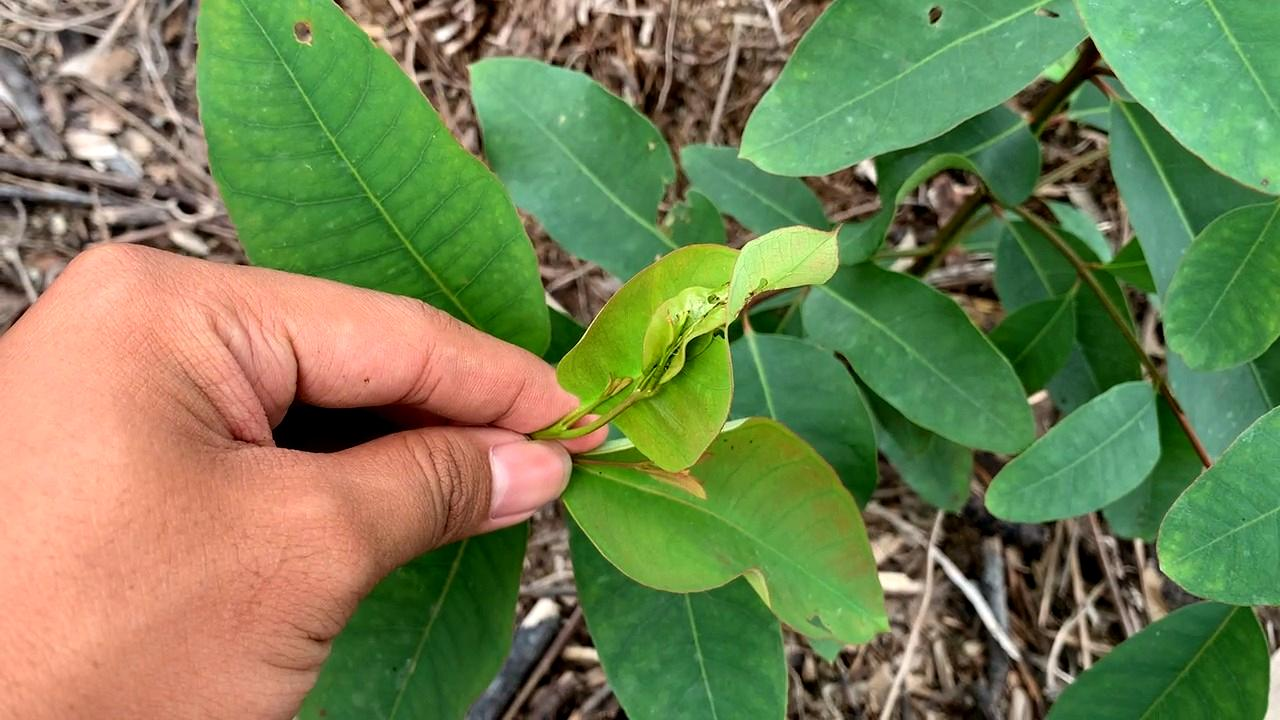Leaf Roller - Leaf: (563, 227, 828, 486)
